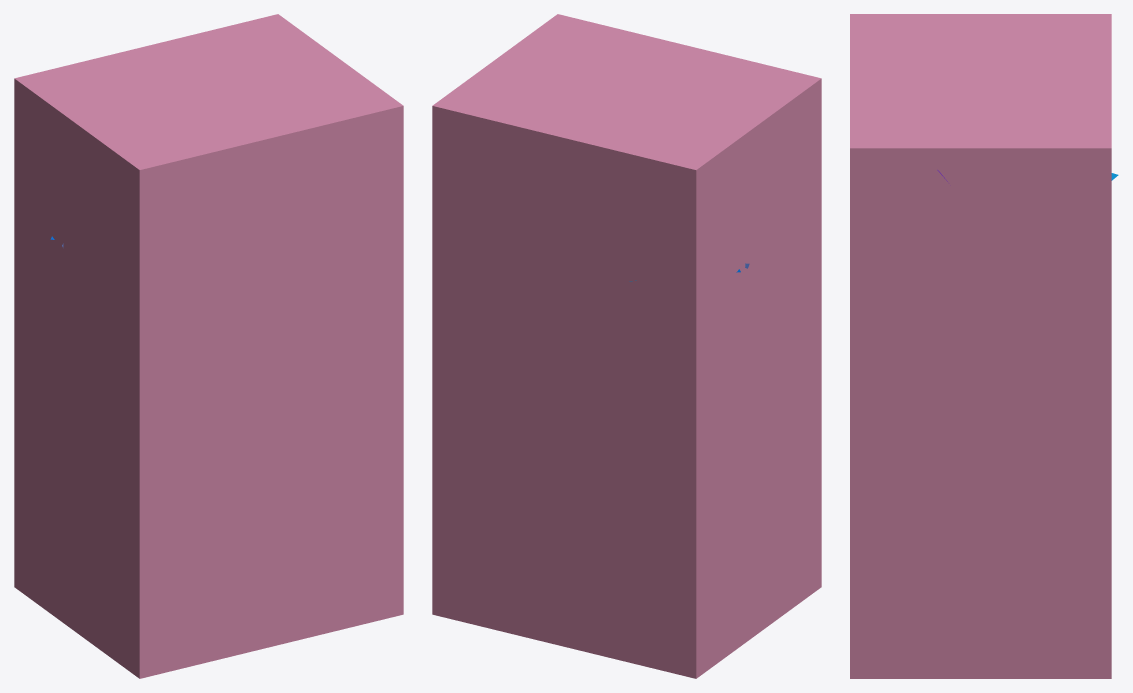
Rendered from tree_aspen_small_low_group.dae.
3 renders of one model, left to right at view 1: azimuth 30°, elevation 25°; view 2: azimuth 150°, elevation 25°; view 3: azimuth 270°, elevation 25°, orthographic. The views are drawn at different scales.
Visible parts, largest first — view 1: Untitled; view 2: Untitled; view 3: Untitled.
Boxes of the visible parts, x1=… form: Untitled: x1=14, y1=14, x2=403, y2=678; Untitled: x1=432, y1=14, x2=821, y2=678; Untitled: x1=850, y1=14, x2=1111, y2=678.
Size of the model in its own units: 4.12 by 3.35 by 7.57.
